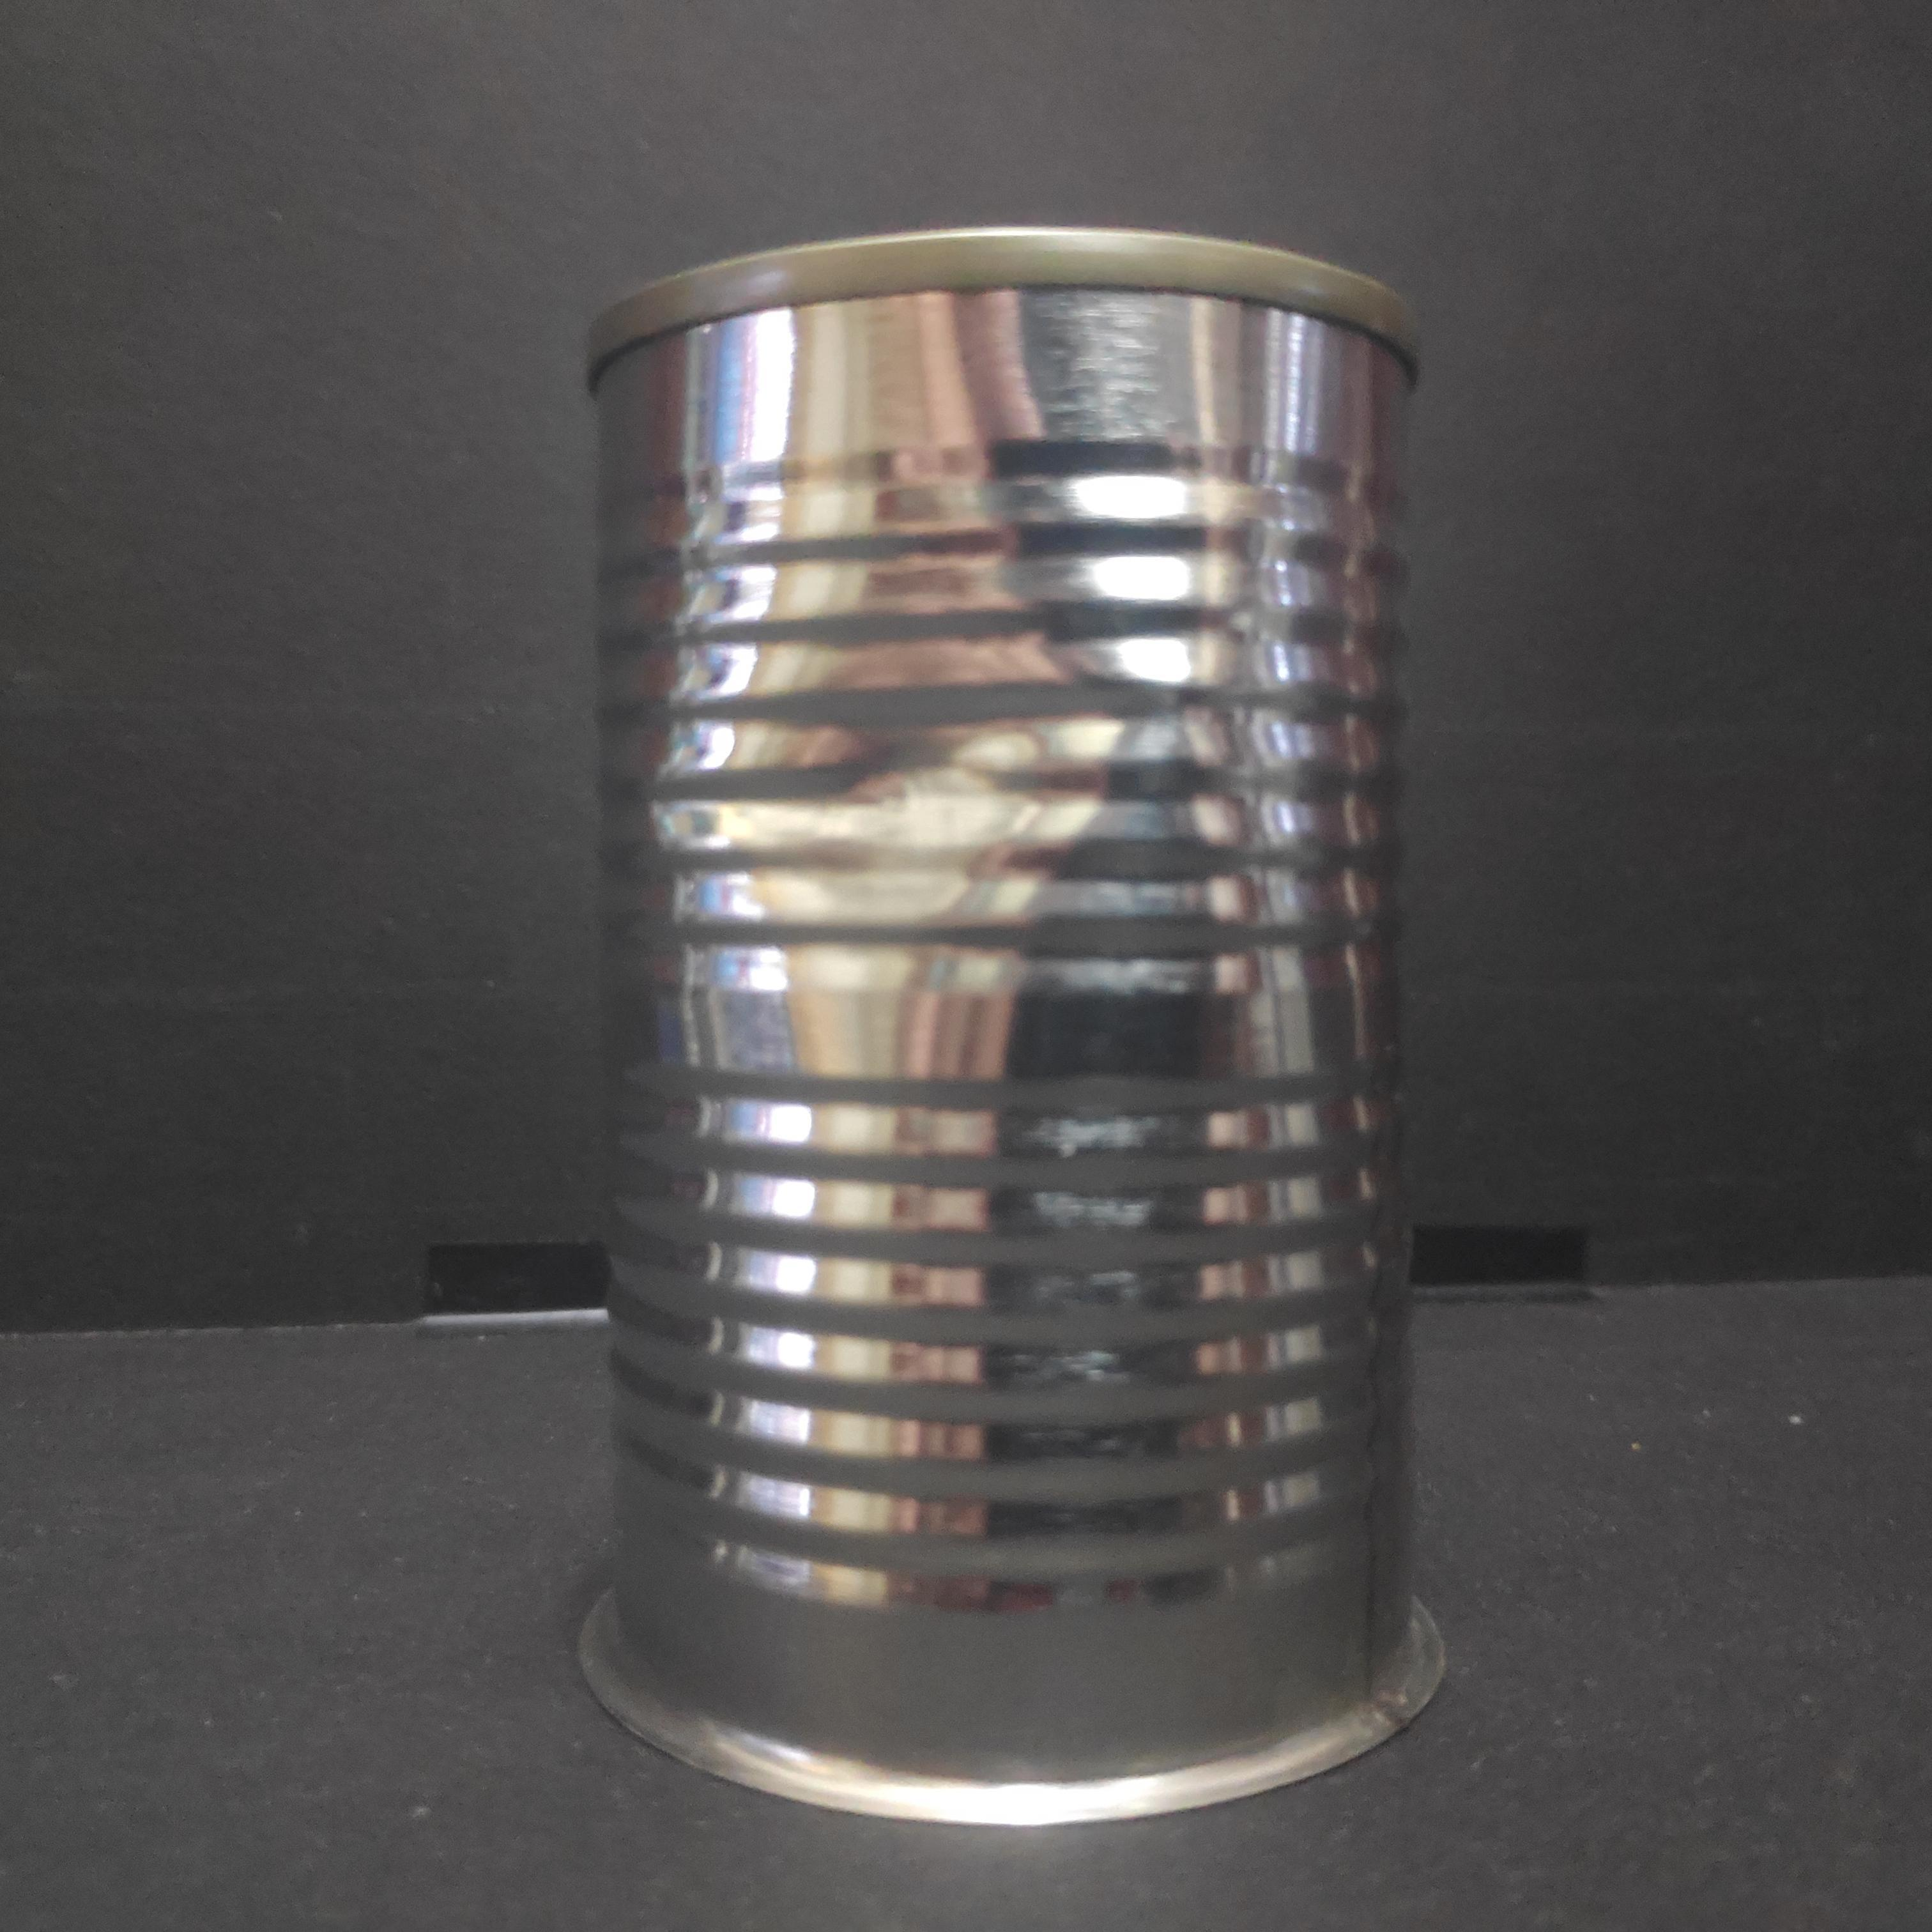Dented: (563, 198, 1451, 1849)
